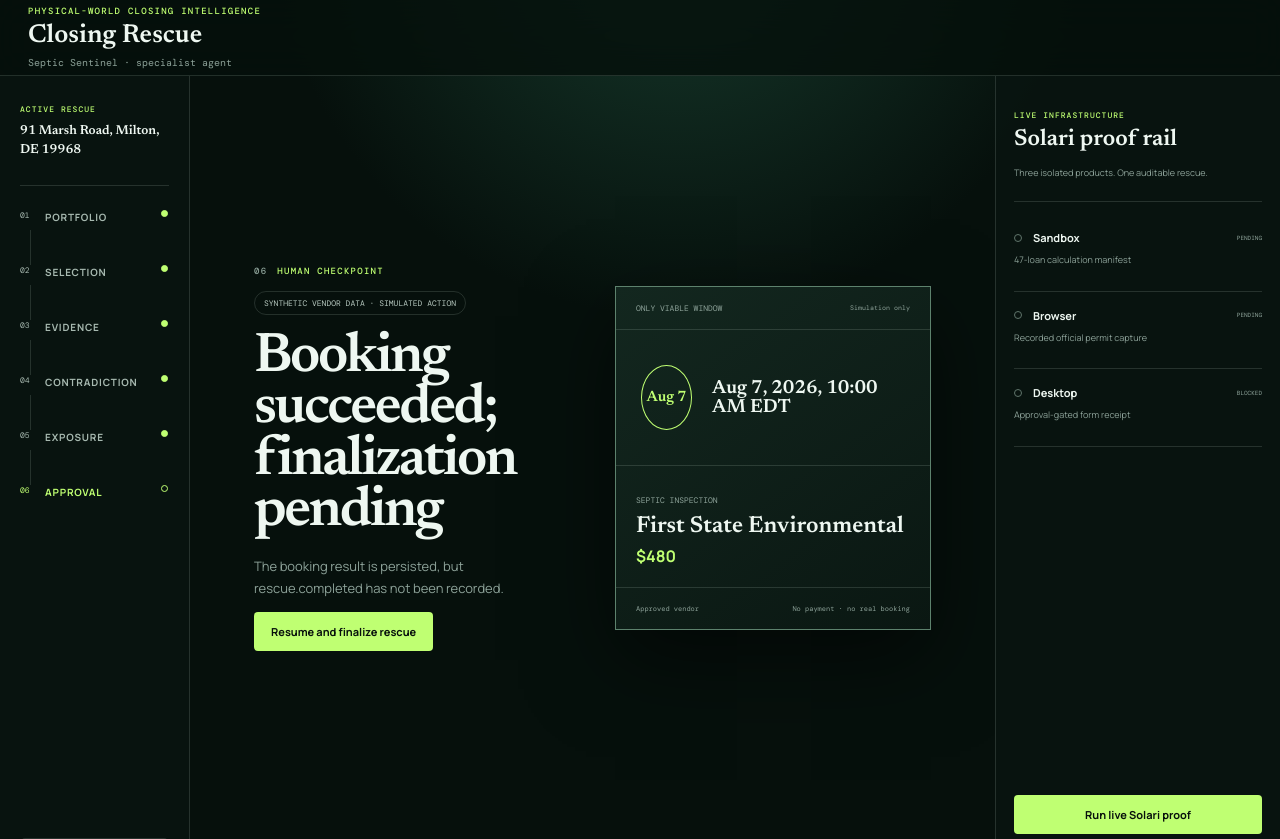
Test: Closing Rescue documentary controller › consumed booking success remains resumable until rescue.completed is persisted
expect the heading "Booking succeeded; finalization pending" is shown: met, box 254,330 -> 516,540
Click the button "Resume and finalize rescue": (344, 632) 254,612 -> 433,651
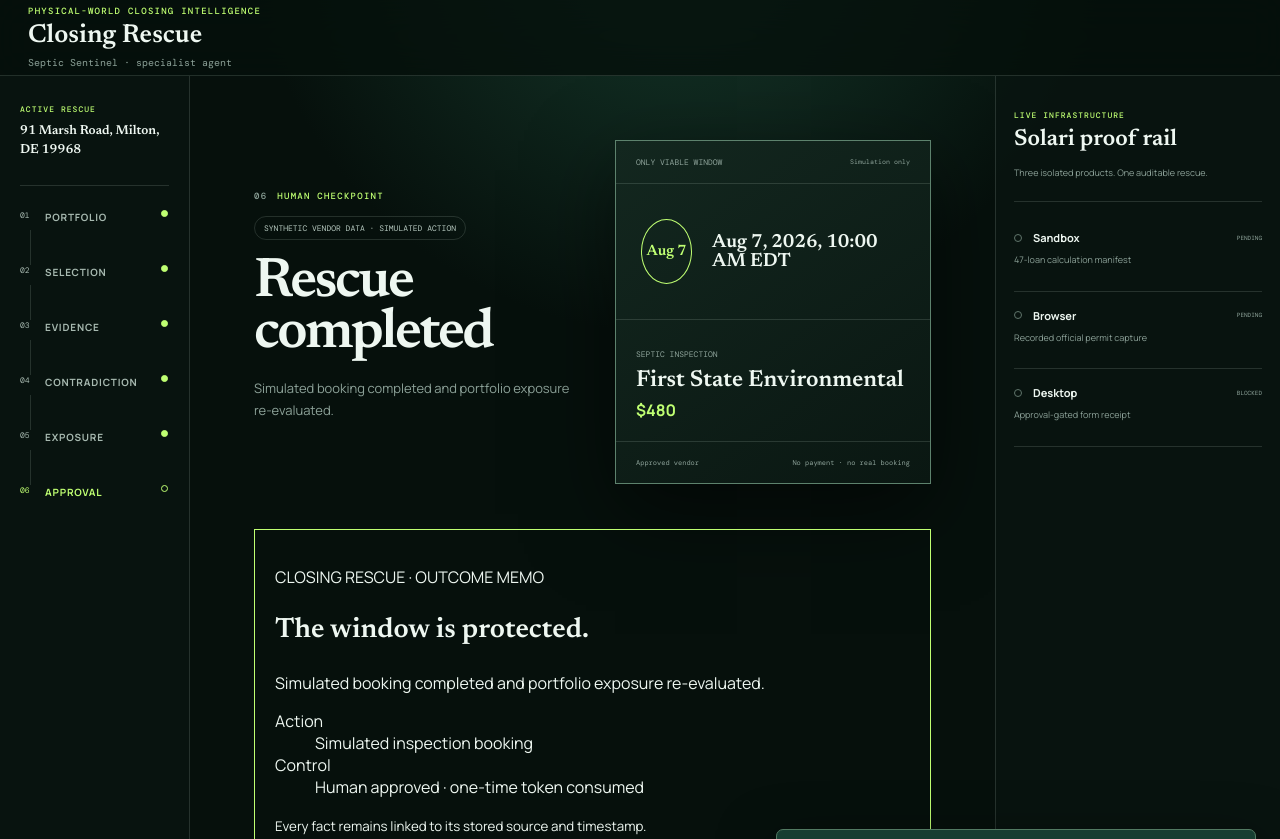
expect the heading "Rescue completed" is shown: met, box 254,255 -> 492,362
